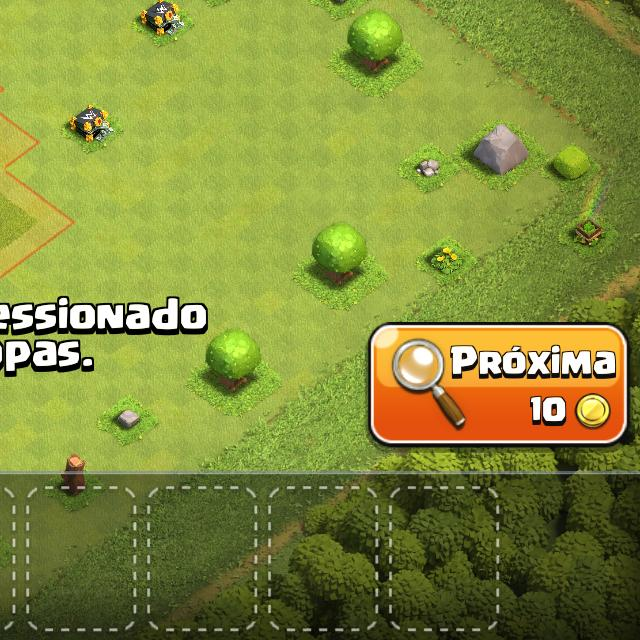Next: (366, 318, 632, 454)
